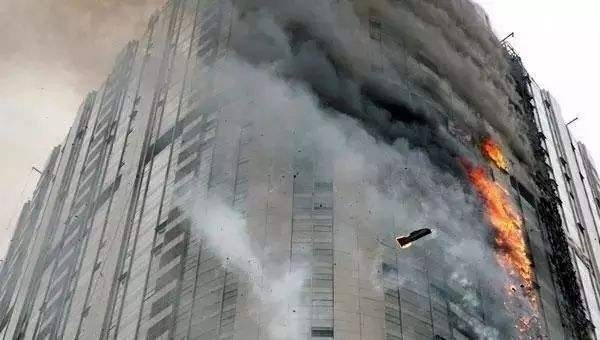fire: (465, 138, 533, 317)
